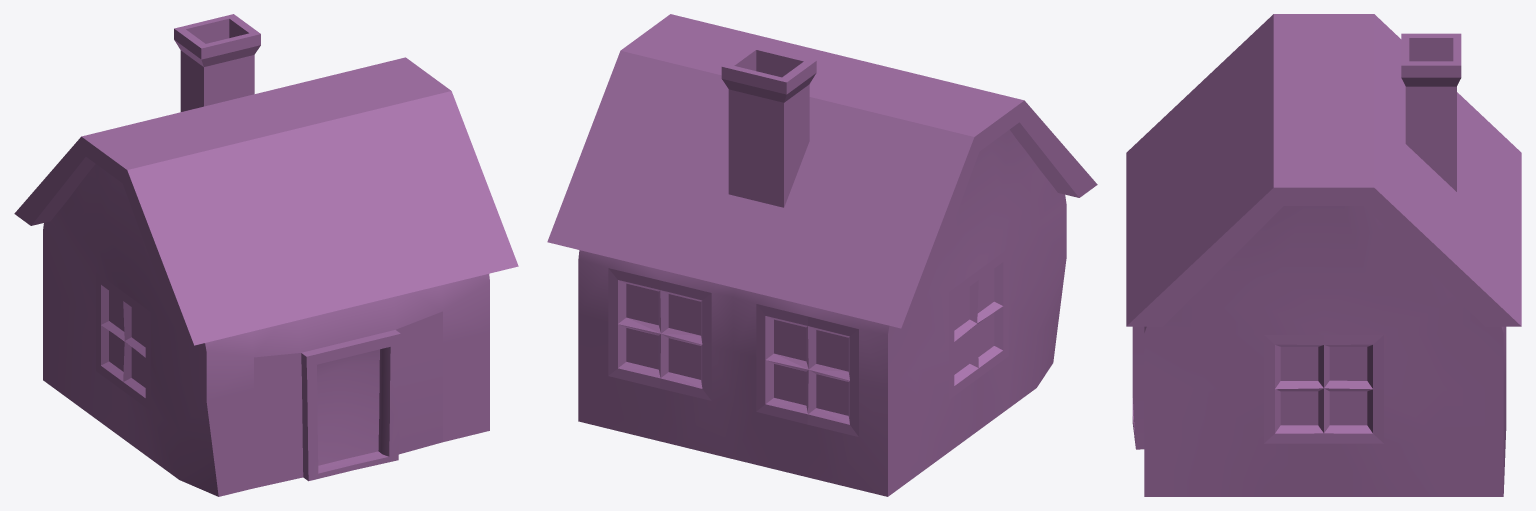
The model's file is maison.fbx.
The picture shows the model from 3 angles, left to right: view 1: azimuth 30°, elevation 25°; view 2: azimuth 150°, elevation 25°; view 3: azimuth 270°, elevation 25°; orthographic projection. The views are drawn at different scales.
Visible parts, largest first — view 1: maison; view 2: maison; view 3: maison.
Boxes of the visible parts, x1,y1,x2,y2 form: maison: (14, 14, 518, 496); maison: (547, 14, 1097, 496); maison: (1126, 14, 1521, 496).
Size of the model in its own units: 0.5855 by 0.5895 by 0.563.
